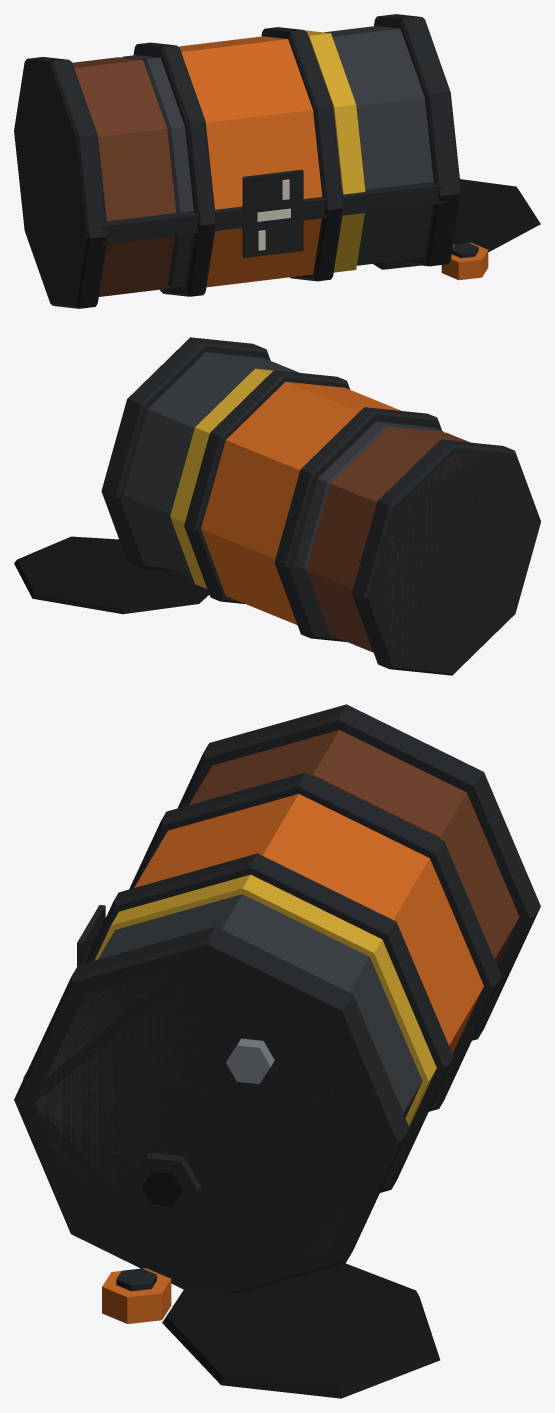
File: desert_barrel_tipped.fbx
3 renders of one model, top to bottom at view 1: azimuth 30°, elevation 25°; view 2: azimuth 150°, elevation 25°; view 3: azimuth 270°, elevation 25°, orthographic. The views are drawn at different scales.
Visible parts, largest first — view 1: Body; view 2: Body; view 3: Body.
Part boxes in pixels (left/top/right/bottom): Body: left=14, top=14, right=540, bottom=308; Body: left=14, top=337, right=540, bottom=675; Body: left=14, top=704, right=540, bottom=1398.
Size of the model in its own units: 4.02 by 1.92 by 2.5.
Materials: 1 (1 with a texture image).
